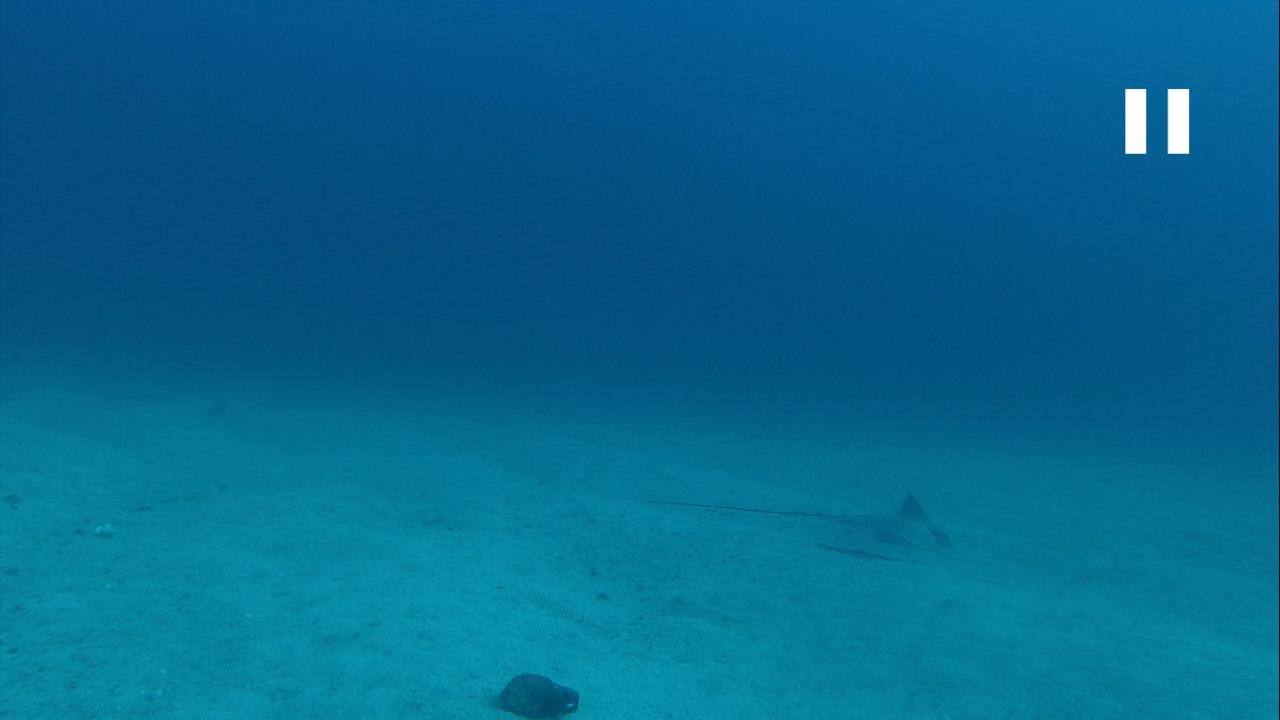myliobatis: (626, 484, 958, 567)
